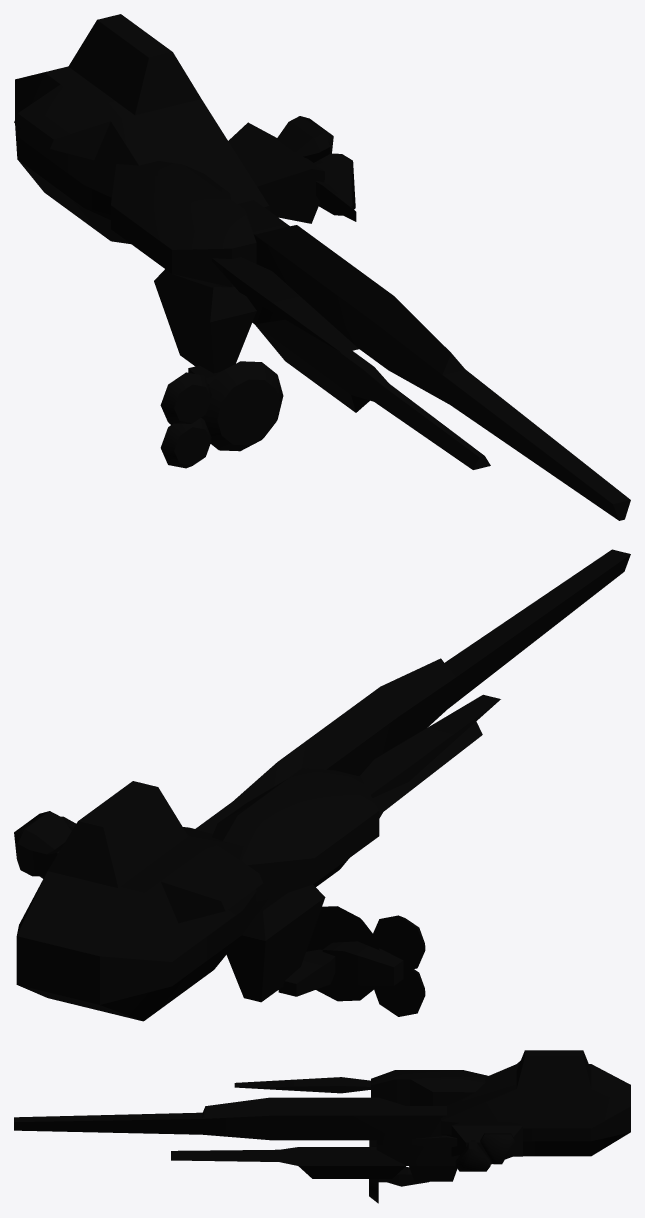
Rendered from sensor_l_03.glb.
The picture shows the model from 3 angles, top to bottom: view 1: azimuth 30°, elevation 25°; view 2: azimuth 150°, elevation 25°; view 3: azimuth 270°, elevation 25°; orthographic projection. The views are drawn at different scales.
Parts seen in each view (by area): view 1: sensor_l_03_LOD0; view 2: sensor_l_03_LOD0; view 3: sensor_l_03_LOD0.
Boxes of the visible parts, x1=… form: sensor_l_03_LOD0: x1=14, y1=14, x2=630, y2=520; sensor_l_03_LOD0: x1=14, y1=549, x2=630, y2=1021; sensor_l_03_LOD0: x1=14, y1=1050, x2=630, y2=1203.
Bounding box in the file's own units: 1.12 × 1.12 × 3.83.
1 material, 1 textured.
